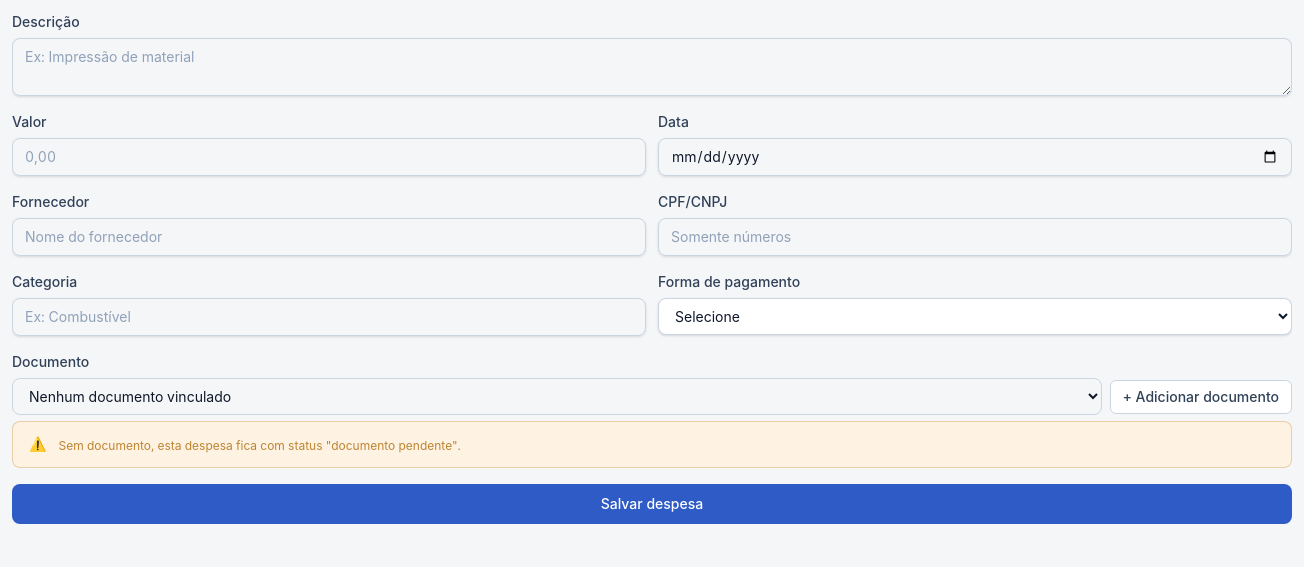
Scenario: ExpenseForm › blocks submission client-side for a negative amount, mirroring the backend rule
Type "-10" into the number field labelled "Valor".
click(329, 157); type("-10")  # box [12, 138, 646, 176]
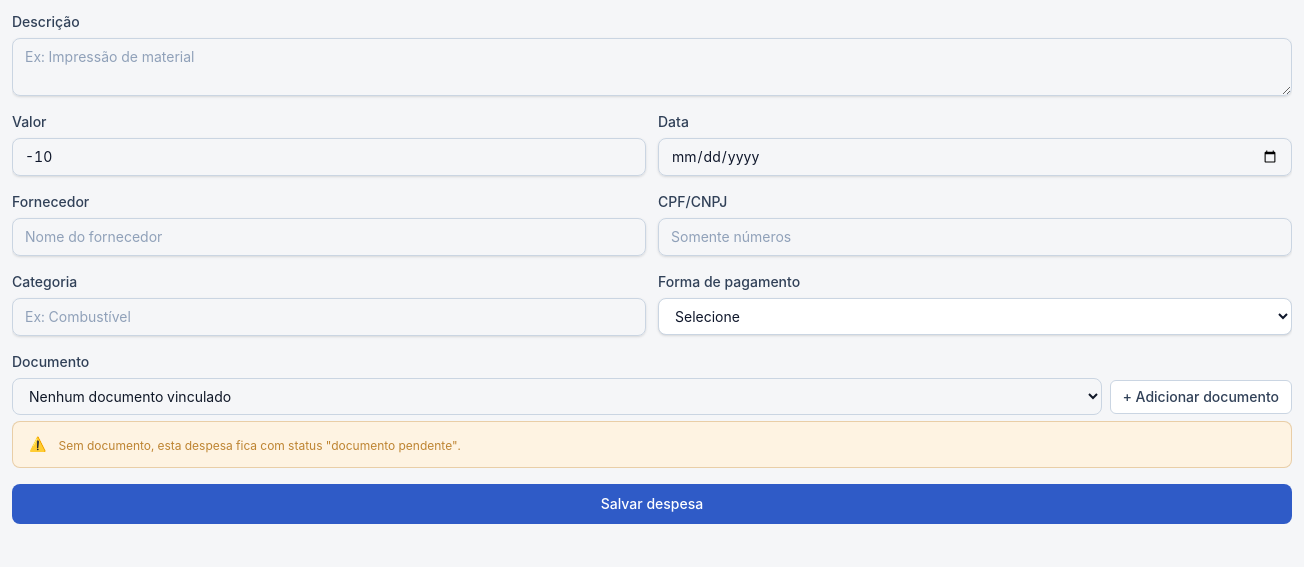
Click the button "Salvar despesa".
click(652, 504)  # box [12, 484, 1292, 524]
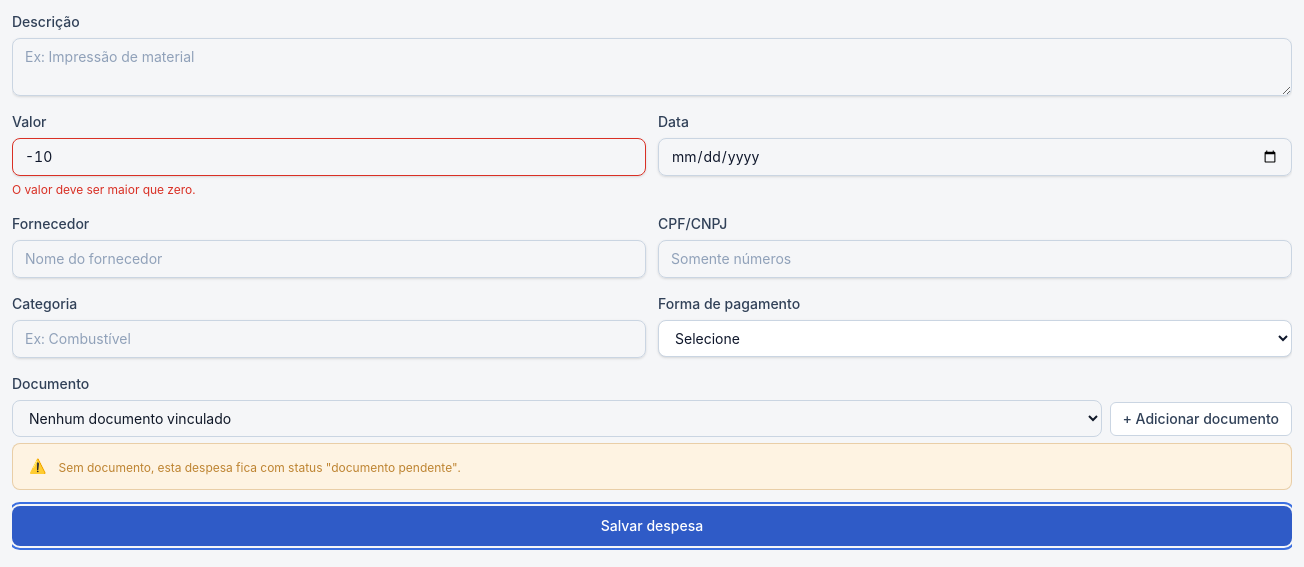
Result: the text "O valor deve ser maior que zero." is shown at [12, 182, 196, 197]
